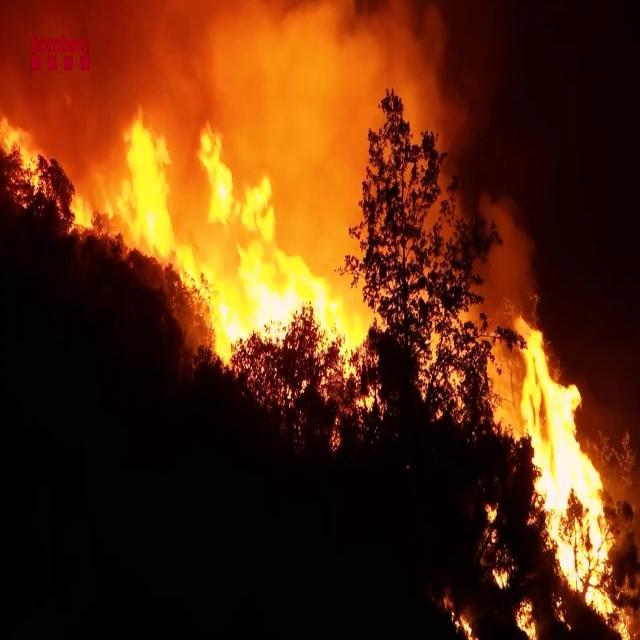Fire: (83, 75, 379, 391), (496, 284, 640, 630), (0, 96, 47, 204), (514, 594, 538, 640)
Smoke: (81, 0, 466, 228)
